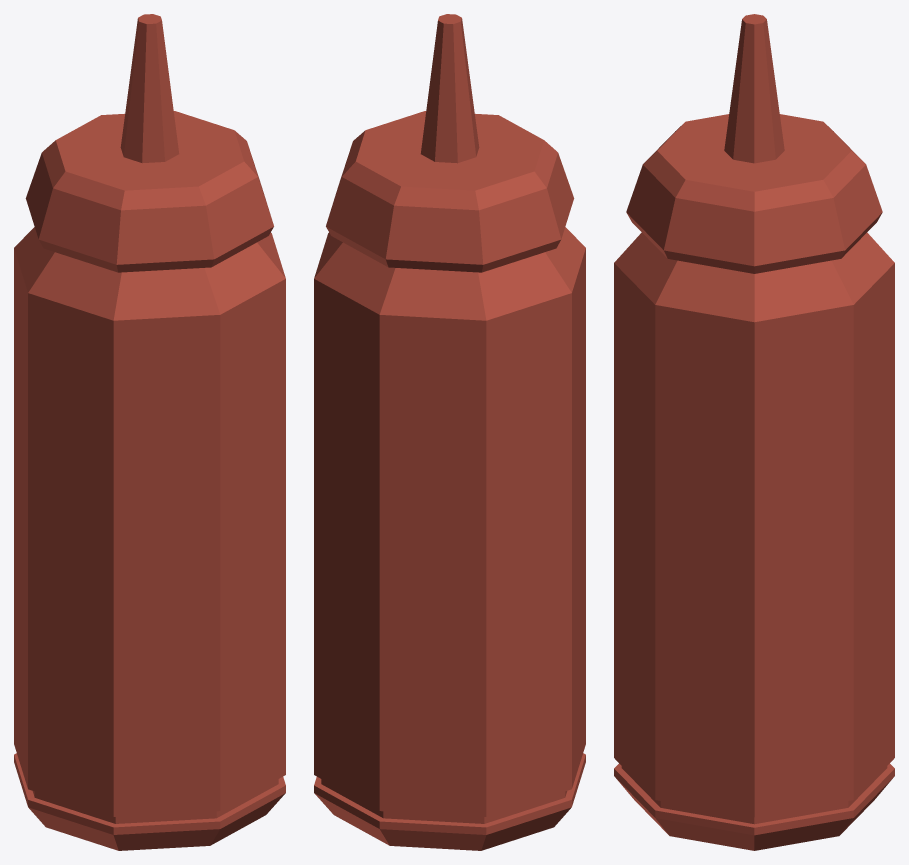
The model's file is KetchupBottle.glb.
The picture shows the model from 3 angles, left to right: view 1: azimuth 30°, elevation 25°; view 2: azimuth 150°, elevation 25°; view 3: azimuth 270°, elevation 25°; orthographic projection.
Visible parts, largest first — view 1: KetchupBottle; view 2: KetchupBottle; view 3: KetchupBottle.
Part boxes in pixels (left/top/right/bottom): KetchupBottle: left=14, top=14, right=285, bottom=850; KetchupBottle: left=314, top=14, right=585, bottom=850; KetchupBottle: left=614, top=14, right=894, bottom=850.
Size of the model in its own units: 0.4996 by 1.53 by 0.4996.
